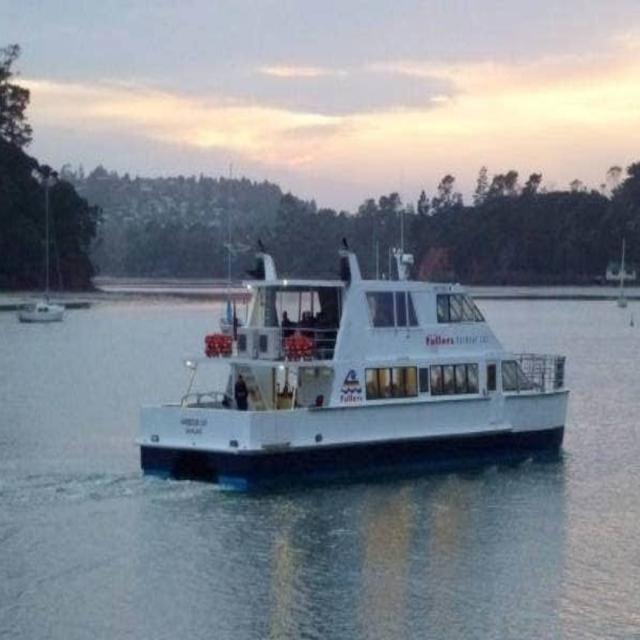houseboat: (145, 219, 567, 470)
